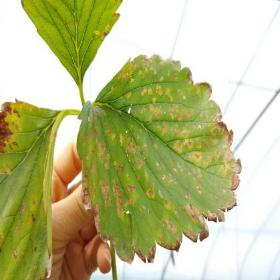Angular Leafspot: (77, 54, 243, 266), (0, 98, 67, 279), (20, 0, 122, 94)
